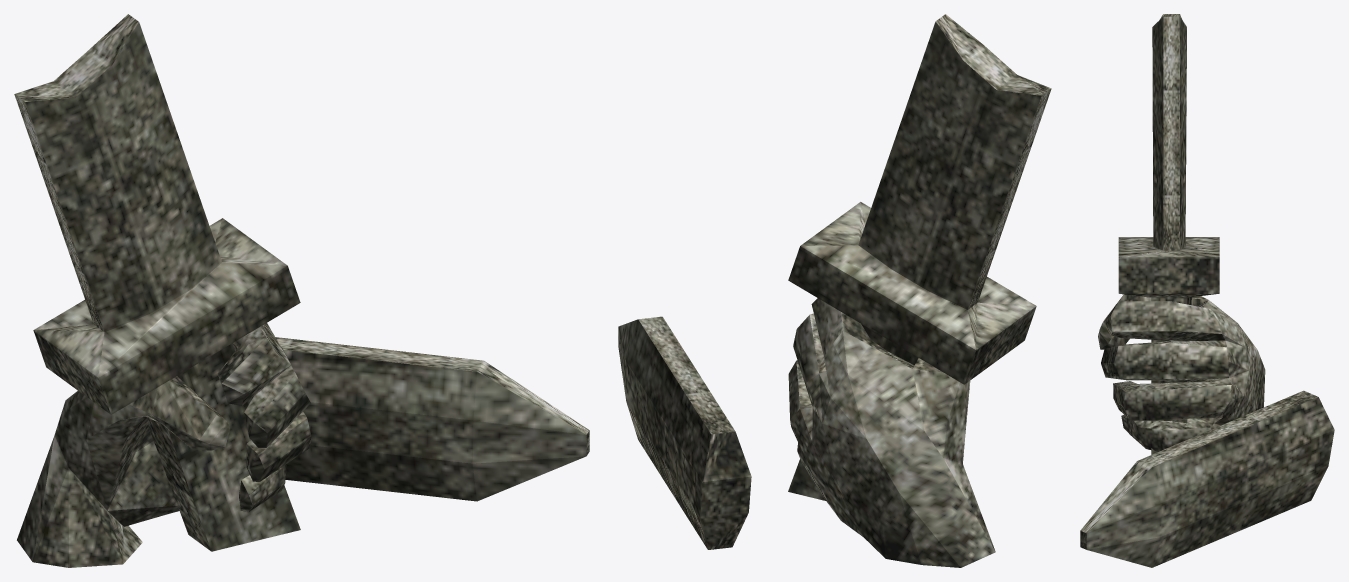
The model's file is ob-bigstatue02.glb.
The picture shows the model from 3 angles, left to right: view 1: azimuth 30°, elevation 25°; view 2: azimuth 150°, elevation 25°; view 3: azimuth 270°, elevation 25°; orthographic projection. The views are drawn at different scales.
Visible parts, largest first — view 1: Object01; view 2: Object01; view 3: Object01.
Part boxes in pixels (x1,y1,x2,y2): Object01: (14,14,589,567); Object01: (618,14,1051,567); Object01: (1080,14,1334,567).
Size of the model in its own units: 5.81 by 5.88 by 3.2.
1 material, 1 textured.
